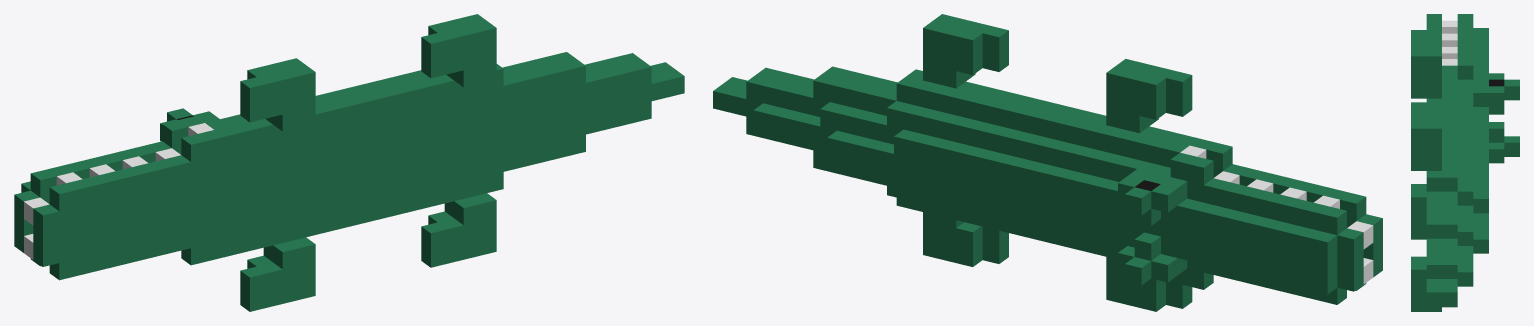
Rendered from crocodile.glb.
3 views of the same model, side by side, from view 1: azimuth 30°, elevation 25°; view 2: azimuth 150°, elevation 25°; view 3: azimuth 270°, elevation 25° (orthographic). The views are drawn at different scales.
Visible parts, largest first — view 1: Node #4; view 2: Node #4; view 3: Node #4.
Part boxes in pixels (left/top/right/bottom): Node #4: left=14, top=14, right=684, bottom=311; Node #4: left=713, top=14, right=1382, bottom=311; Node #4: left=1411, top=14, right=1519, bottom=311.
Size of the model in its own units: 39 by 13 by 7.
1 material, 1 textured.
